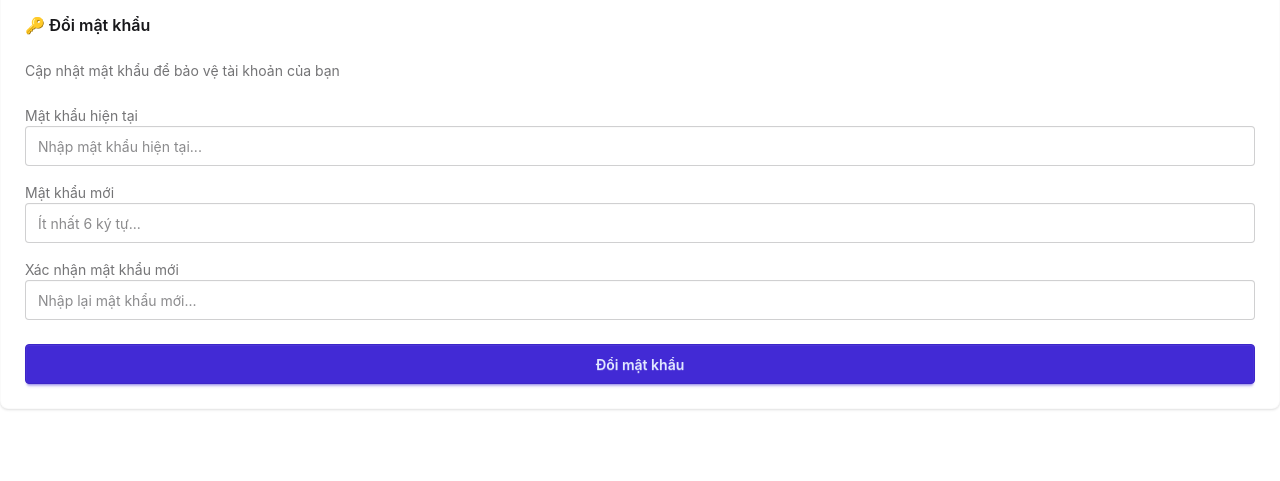
Test: ChangePasswordForm › shows success alert on valid submission
In the password field labelled "Mật khẩu hiện tại": (640, 146) [25,126,1255,166], type "OldPass1"
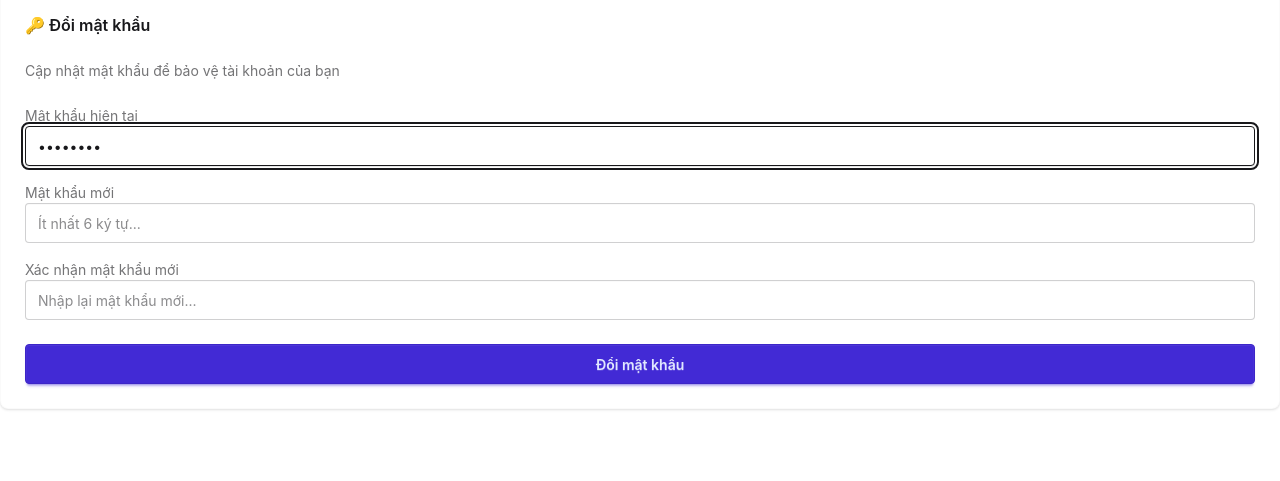
In the password field labelled "Mật khẩu mới": (640, 223) [25,203,1255,243], type "NewValid1#"
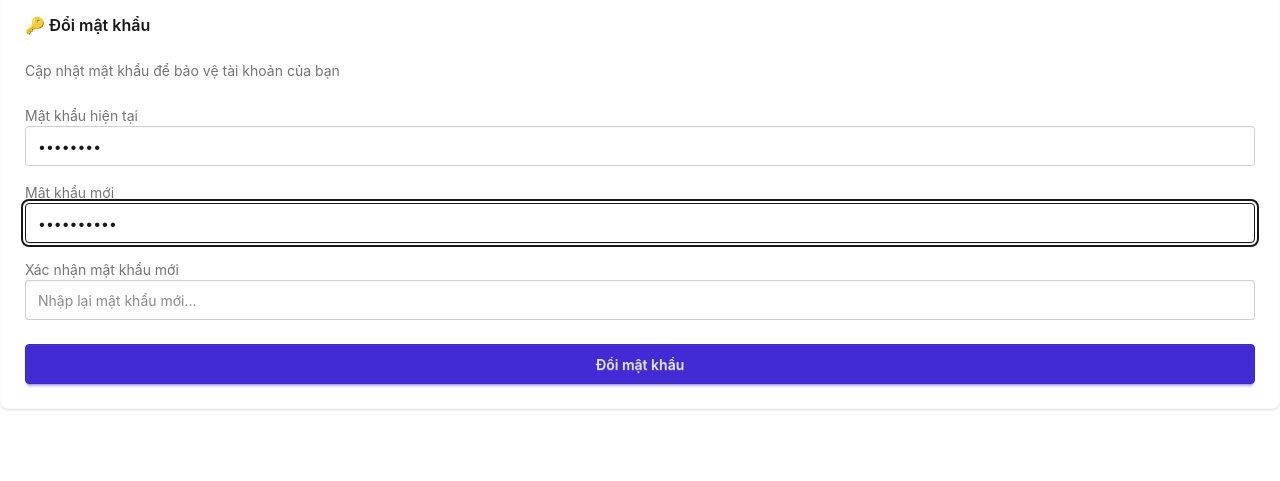
In the password field labelled "Xác nhận mật khẩu mới": (640, 300) [25,280,1255,320], type "NewValid1#"
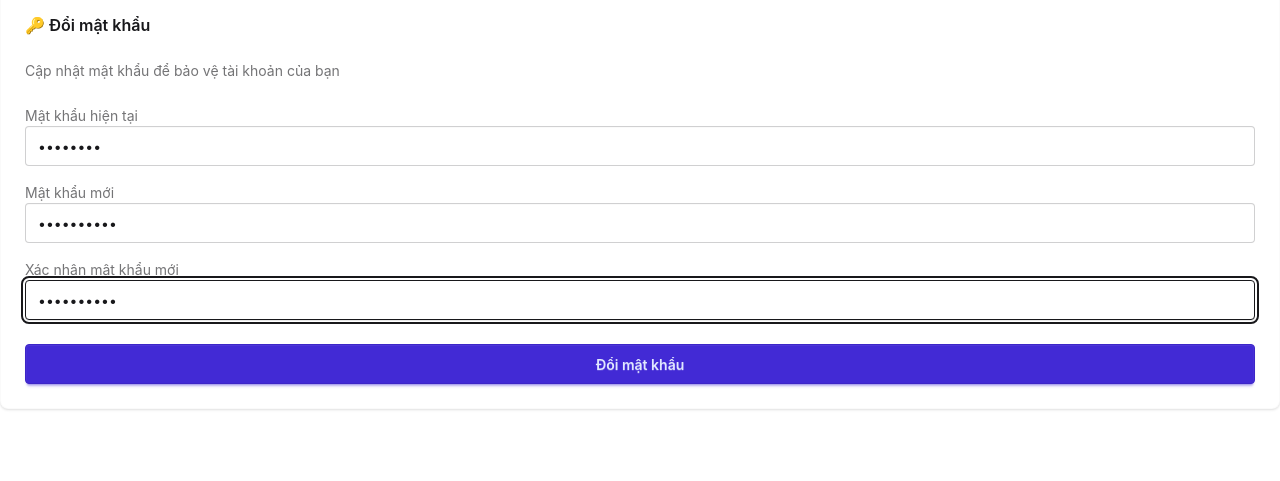
Click the button "Đổi mật khẩu": (640, 364) [25,344,1255,384]
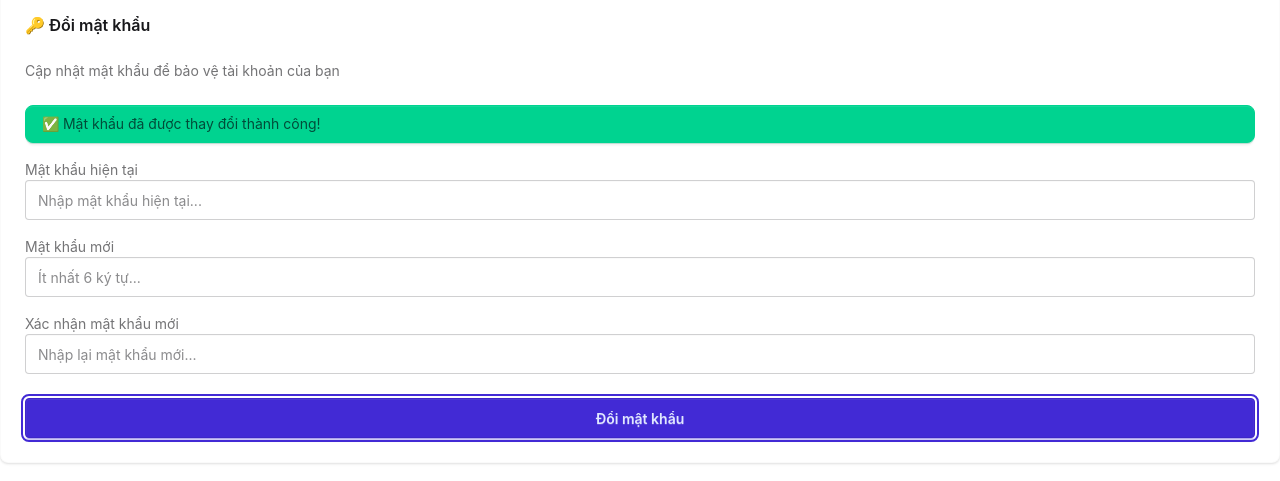
Check: the message "✅ Mật khẩu đã được thay đổi thành công!" is shown, box [25,105,1255,143]
